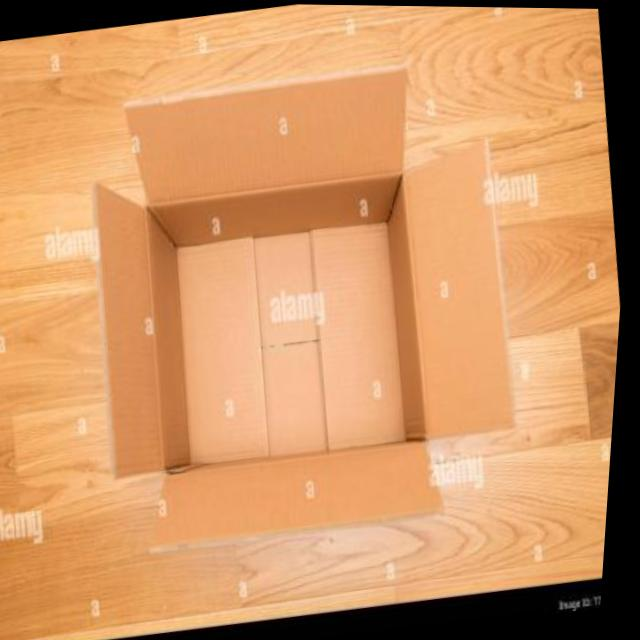box: (52, 38, 562, 572)
